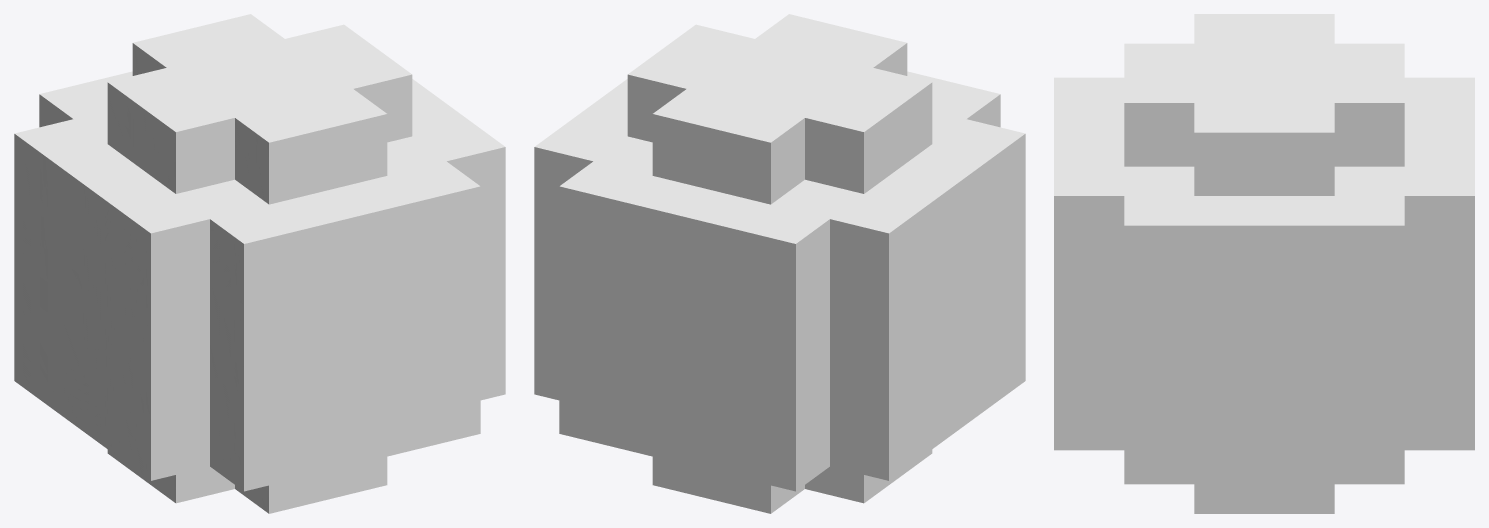
The model's file is head_base.gltf.
3 renders of one model, left to right at view 1: azimuth 30°, elevation 25°; view 2: azimuth 150°, elevation 25°; view 3: azimuth 270°, elevation 25°, orthographic. The views are drawn at different scales.
Parts seen in each view (by area): view 1: Layer.1; view 2: Layer.1; view 3: Layer.1.
Boxes of the visible parts, <box> form: Layer.1: <box>14,14,505,513</box>; Layer.1: <box>534,14,1025,513</box>; Layer.1: <box>1054,14,1474,513</box>.
Bounding box in the file's own units: 6 × 6 × 6.
Materials: 1 (1 with a texture image).
